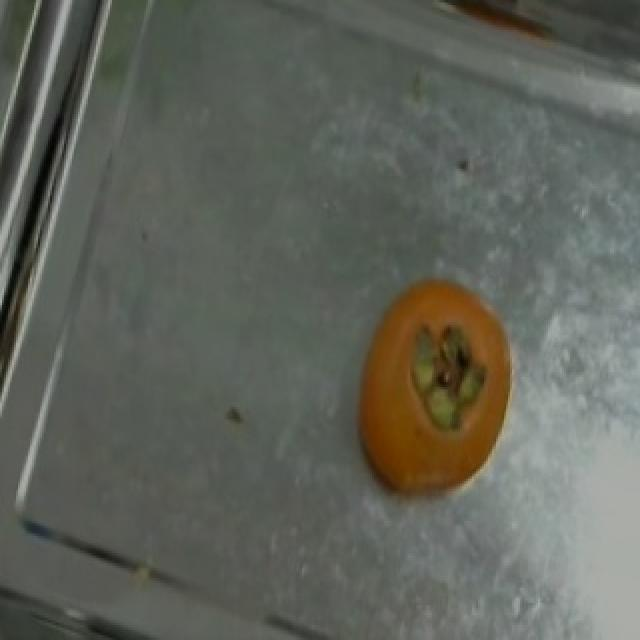Fruit: (340, 260, 534, 521)
